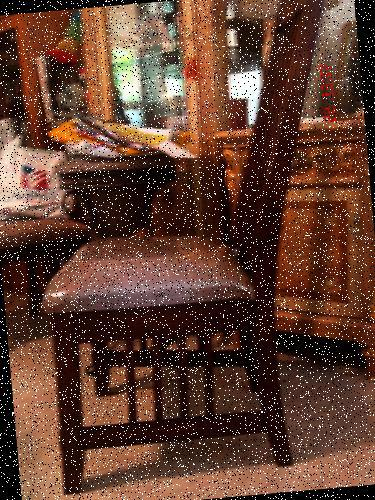Silla: (19, 0, 373, 499)
